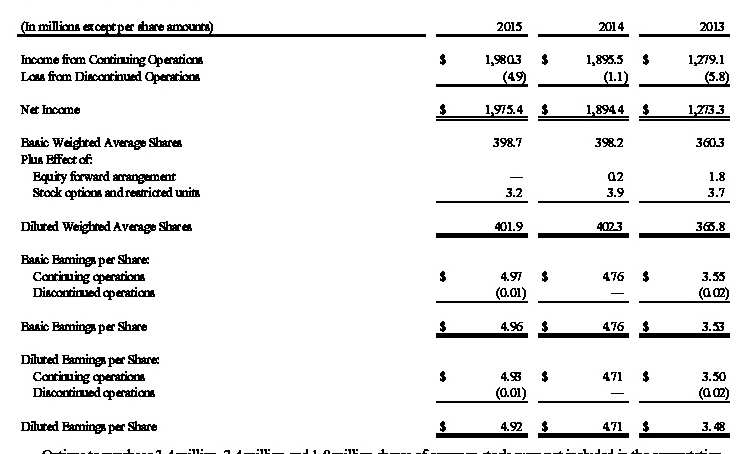table: (0, 0, 747, 454)
